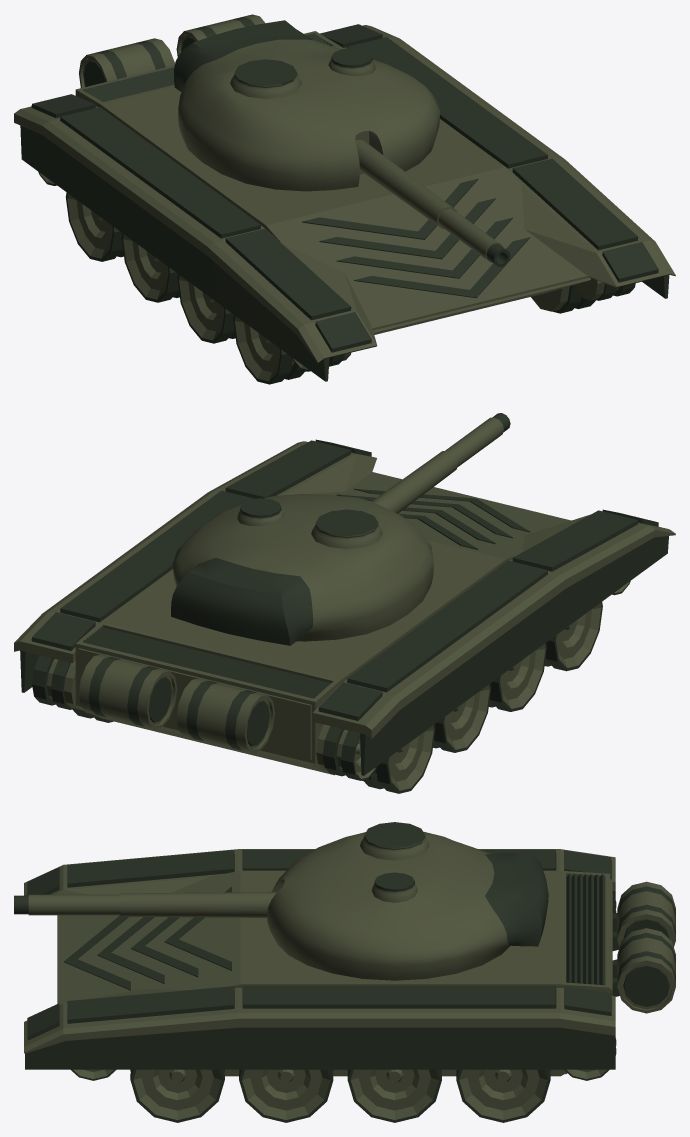
File: Mini T72 Body.fbx
3 views of the same model, one above another, from view 1: azimuth 30°, elevation 25°; view 2: azimuth 150°, elevation 25°; view 3: azimuth 270°, elevation 25° (orthographic). The views are drawn at different scales.
Visible parts, largest first — view 1: T72-Body, T72-Turret, T72-Cannon, Wheel.R.001, Wheel.R.002, Wheel.R.003, Wheel.R.004, Wheel.L.001, Wheel.L.Sprocket; view 2: T72-Body, T72-Turret, T72-Cannon, Wheel.R.004, Wheel.R.002, Wheel.R.001, Wheel.R.003, Wheel.R.005, Wheel.L.005; view 3: T72-Body, T72-Turret, T72-Cannon, Wheel.L.001, Wheel.L.004, Wheel.L.002, Wheel.L.003.
Part boxes in pixels (x1,y1,x2,y2): T72-Body: (14,14,675,381); T72-Turret: (174,20,439,191); T72-Cannon: (355,140,510,266); Wheel.R.001: (233,315,306,384); Wheel.R.002: (177,274,235,343); Wheel.R.003: (121,233,179,302); Wheel.R.004: (65,192,123,261); Wheel.L.001: (531,284,595,313); Wheel.L.Sprocket: (575,277,635,300); T72-Body: (14,439,675,775); T72-Turret: (171,494,433,645); T72-Cannon: (371,413,510,513); Wheel.R.004: (362,724,435,793); Wheel.R.002: (489,643,546,711); Wheel.R.001: (544,602,602,671); Wheel.R.003: (433,683,491,752); Wheel.R.005: (316,724,376,780); Wheel.L.005: (32,655,80,709); T72-Body: (24,849,675,1076); T72-Turret: (267,822,548,980); T72-Cannon: (14,892,276,917); Wheel.L.001: (130,1069,224,1122); Wheel.L.004: (456,1069,550,1122); Wheel.L.002: (239,1069,333,1122); Wheel.L.003: (347,1069,441,1122).
Size of the model in its own units: 345 by 183 by 569.
